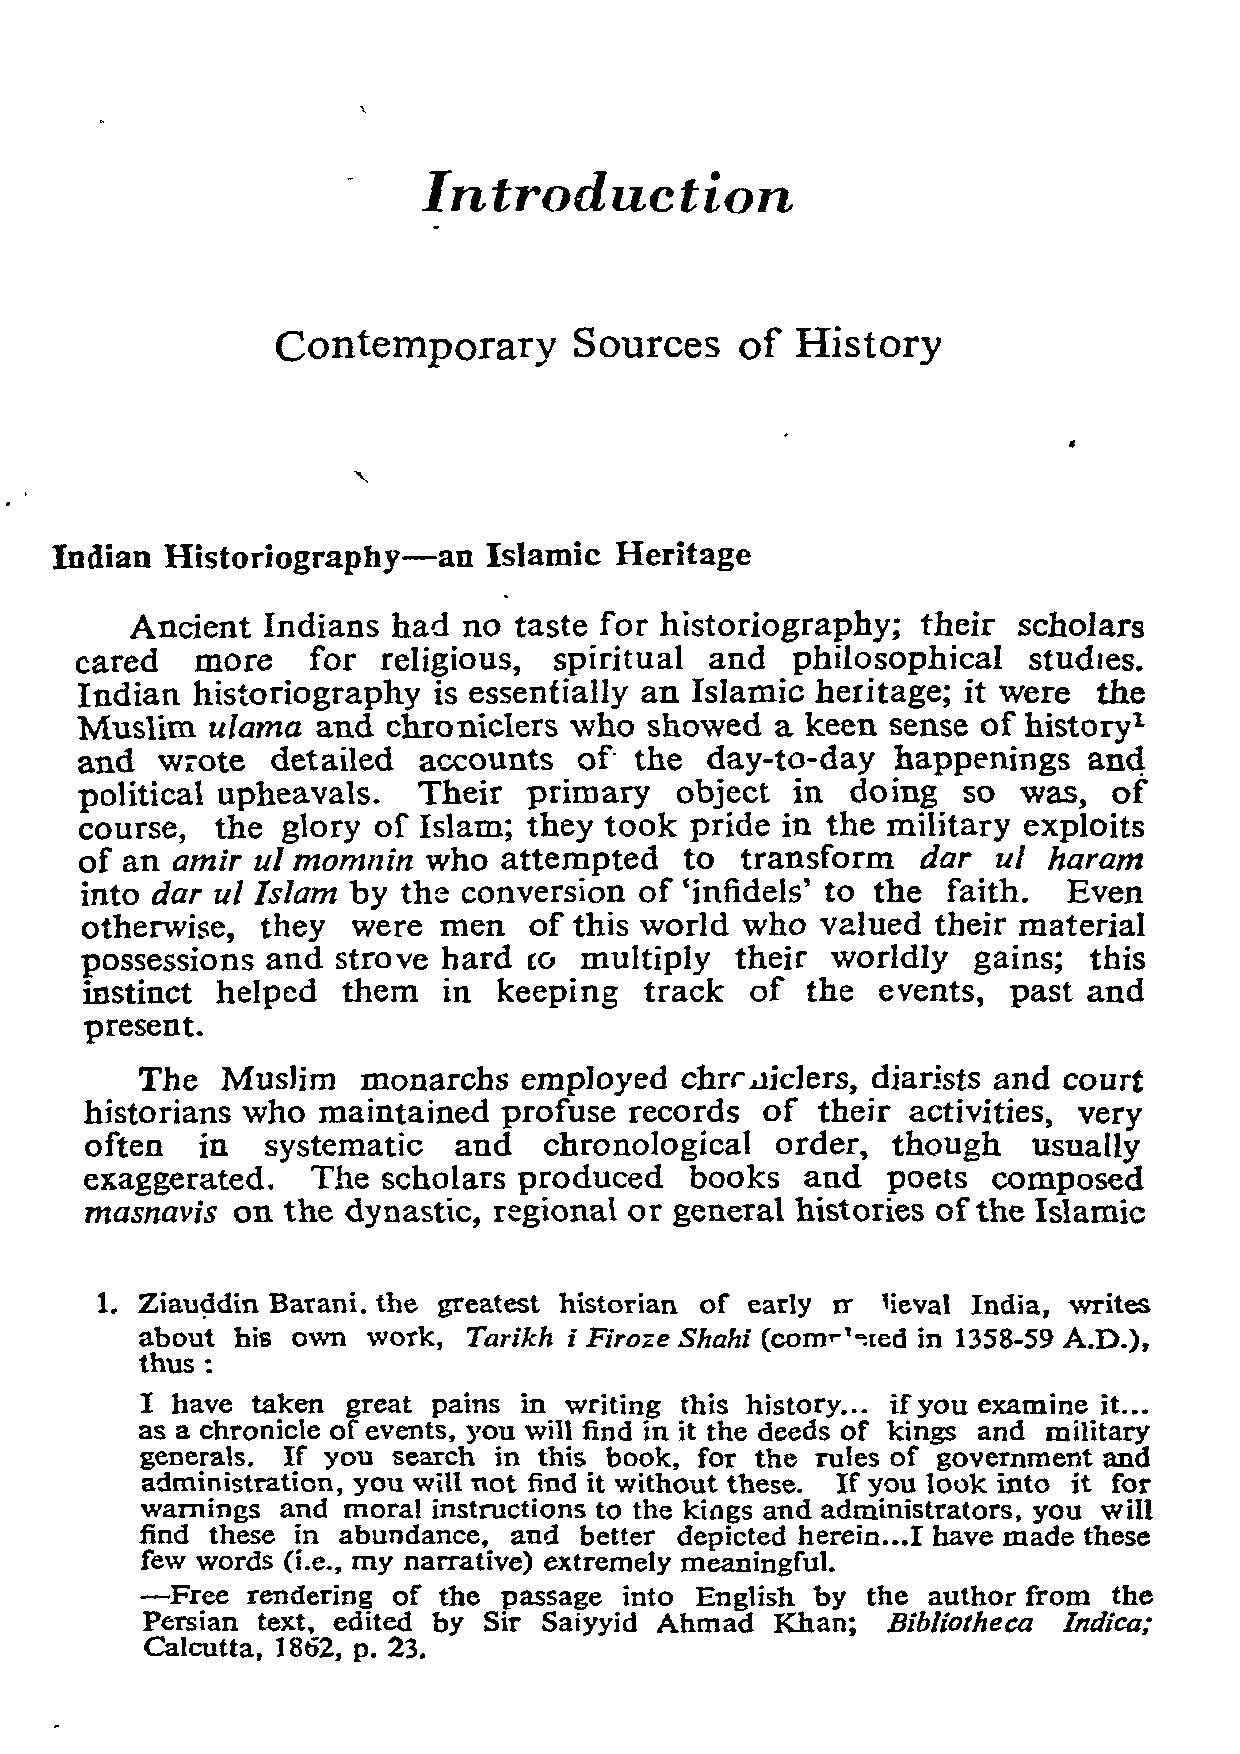chapter: (271, 166, 943, 370), (50, 539, 754, 577)
content: (76, 605, 1155, 1669)
